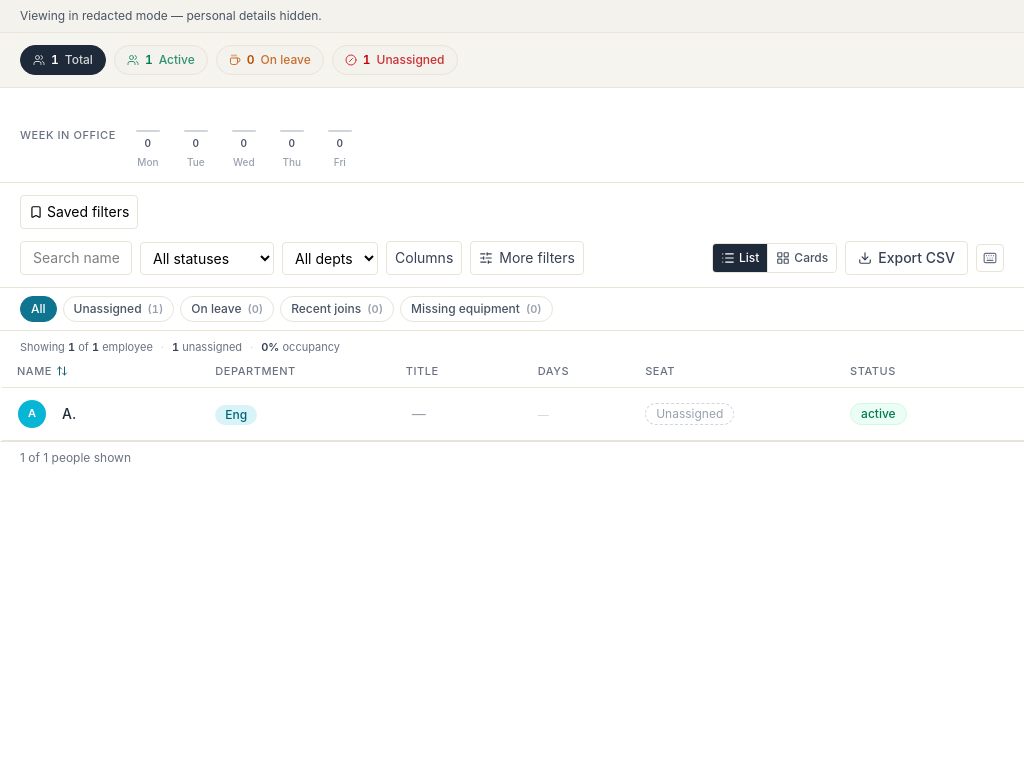
RosterDetailDrawer — Sensitivity tags section › disables the input and hides remove buttons for viewers without editRoster
The image size is (1024, 768).
Double-click the text "A." at (512, 414), box [1,388,1023,441]
(page scrolled)
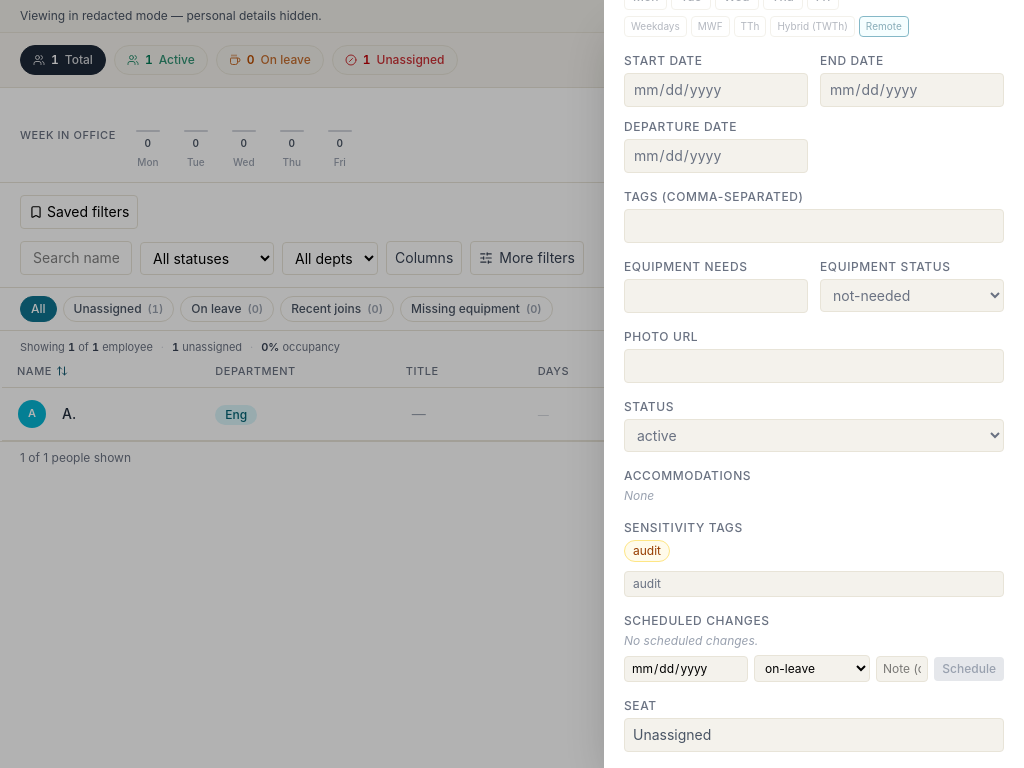
Now the field named "Sensitivity tags" is disabled, box [624,571,1004,597]
